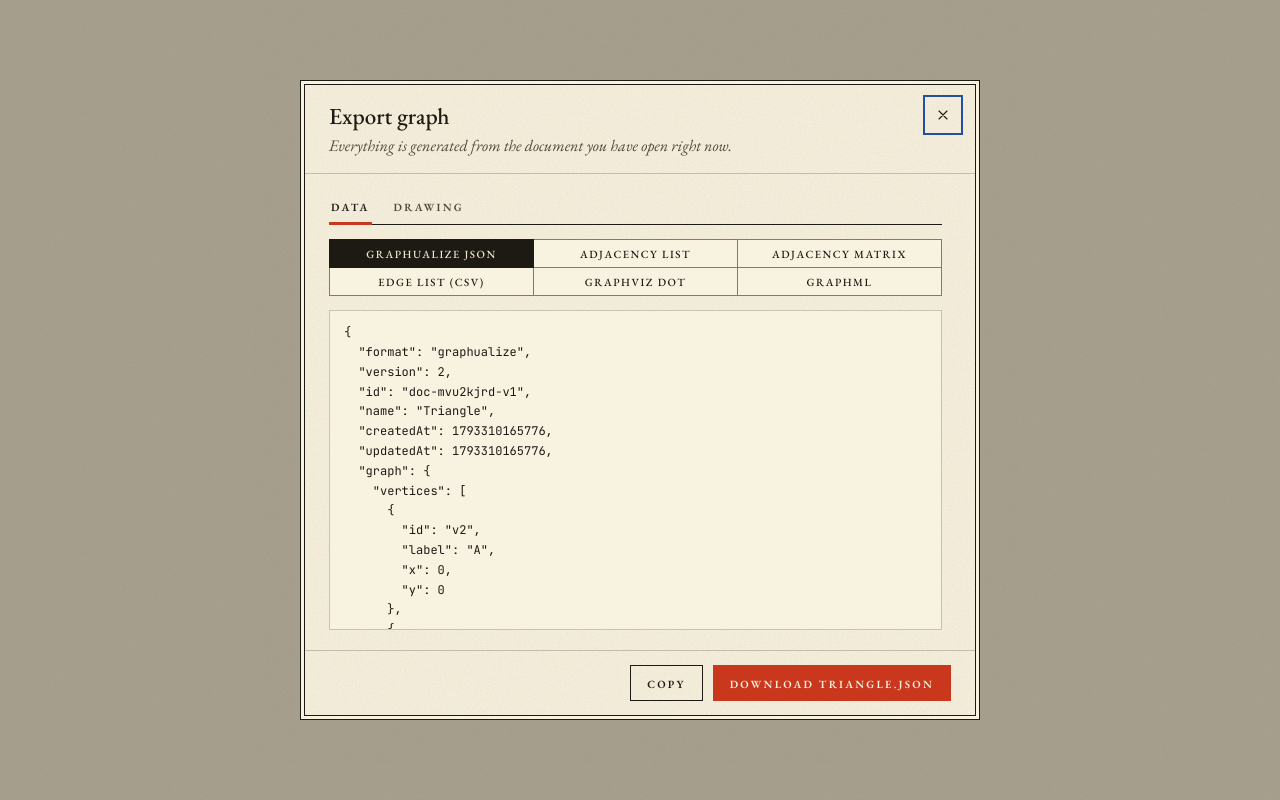
Test: Export dialog, TikZ › previews the TikZ source of the open graph
The image size is (1280, 800).
Click the button "Drawing" at (429,208), box [392, 192, 466, 225]
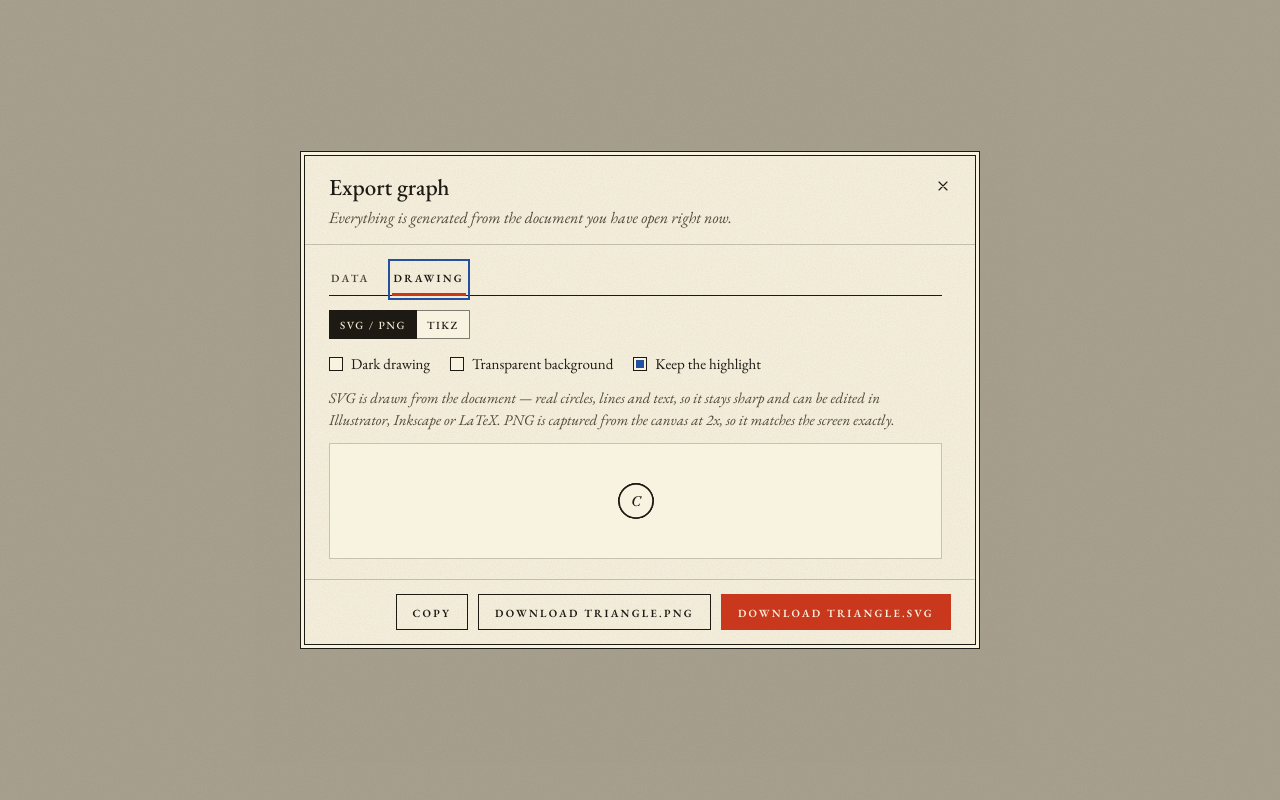
Click the button "TikZ" at (443,325), box [416, 310, 470, 340]
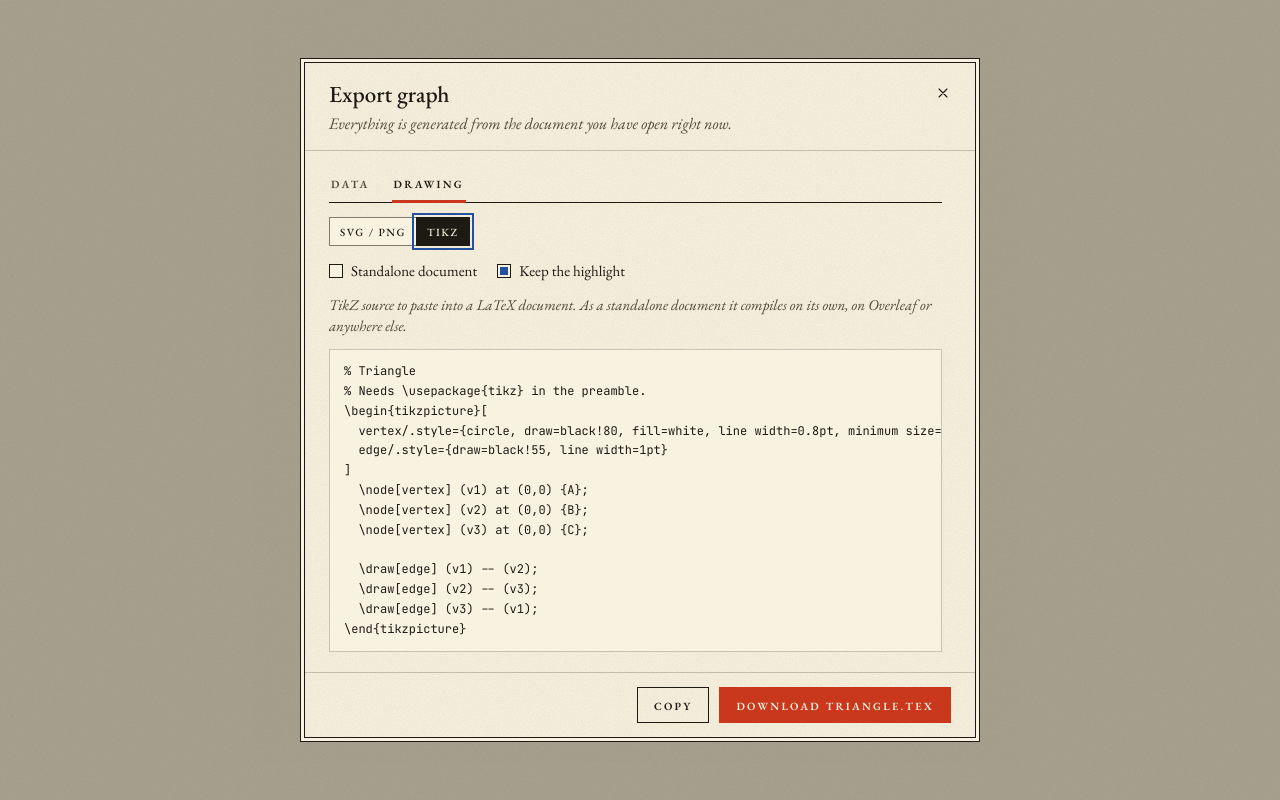
Result: the text "\\begin{tikzpicture}" is shown at [344, 363, 975, 637]
Result: the button ".png" is gone
Result: the label labelled "Dark drawing" is gone
